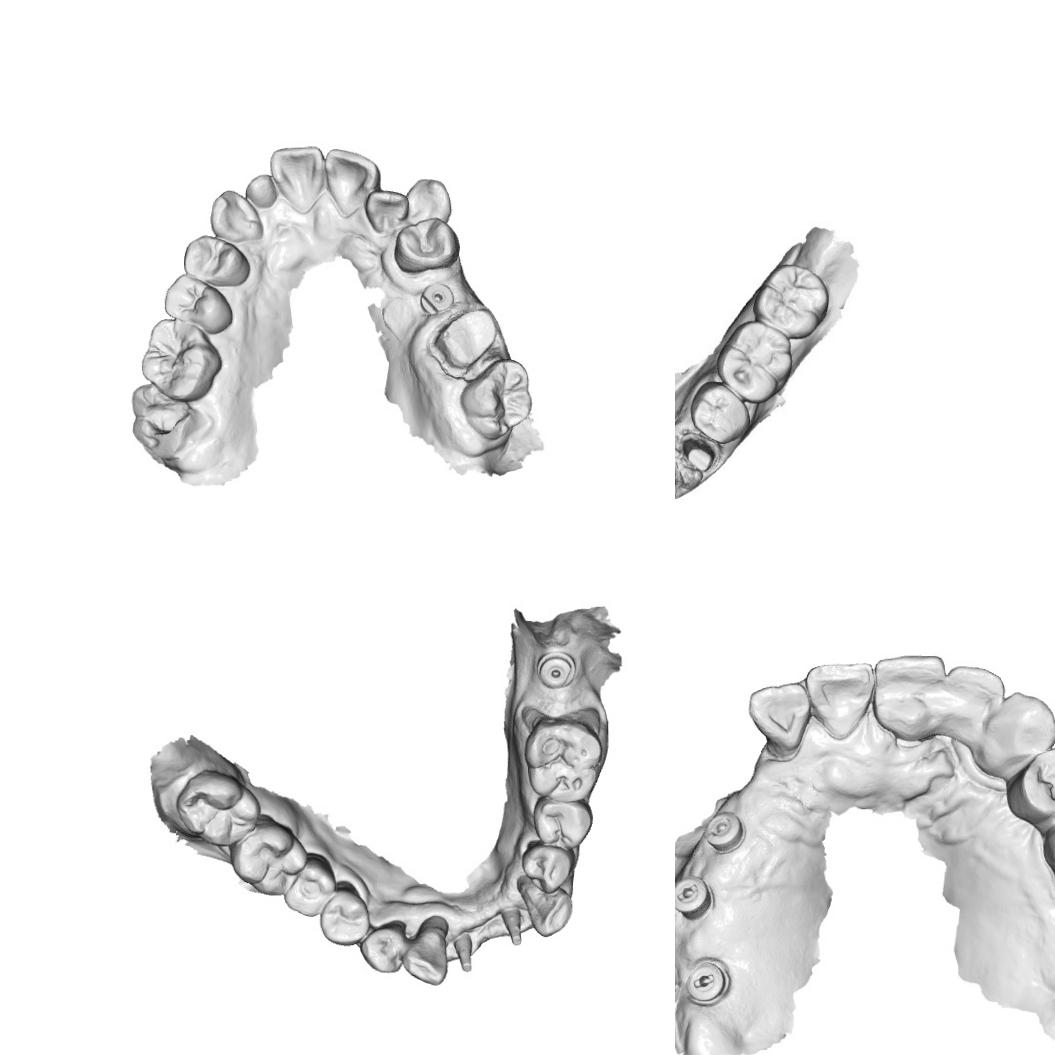abutment: (498, 904, 526, 948), (451, 930, 476, 973)
canine: (976, 689, 1055, 778), (515, 873, 575, 938), (400, 914, 452, 987), (208, 188, 264, 244), (404, 176, 453, 224)
crown: (430, 305, 501, 372), (680, 432, 722, 478)
implant: (534, 650, 578, 690), (417, 279, 457, 316)
implant_minus: (682, 954, 728, 1007), (699, 810, 744, 854), (675, 872, 715, 920)
incisor: (872, 652, 949, 740), (806, 658, 874, 740), (942, 662, 1008, 744), (322, 146, 383, 220), (746, 680, 808, 750), (268, 144, 326, 215), (364, 188, 410, 237), (244, 173, 278, 210)
molar: (522, 716, 606, 805), (138, 317, 222, 404), (227, 812, 310, 898), (174, 767, 262, 848), (458, 356, 535, 442), (716, 322, 794, 399), (128, 382, 202, 456), (758, 264, 826, 334), (280, 850, 338, 918)
premolar: (162, 270, 236, 336), (181, 233, 252, 290), (392, 216, 461, 274), (531, 796, 597, 850), (696, 384, 750, 447), (318, 887, 371, 948), (1014, 746, 1055, 819), (358, 916, 409, 974), (520, 842, 576, 894)
